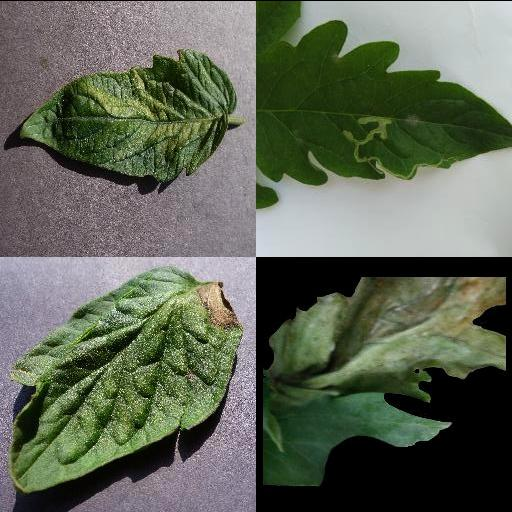Late Blight: (9, 262, 245, 492), (265, 276, 507, 486)
Leaf Miner: (256, 20, 512, 186)
Spider Mites: (20, 49, 238, 181)
